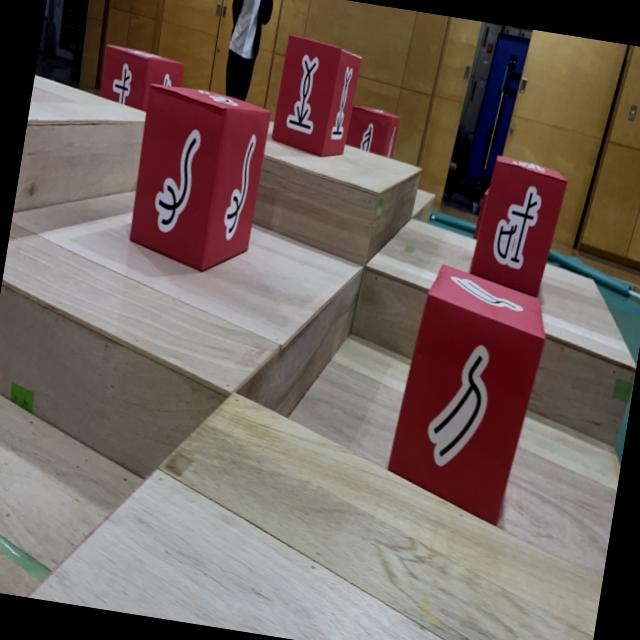10: (420, 336, 498, 475), (444, 274, 528, 314)
11: (359, 120, 375, 153)
13: (150, 124, 202, 239), (220, 130, 260, 242)
5: (491, 179, 545, 271)
7: (284, 52, 325, 136), (330, 65, 356, 142)
9: (108, 60, 135, 106)
fighter: (381, 260, 555, 530), (121, 80, 272, 280), (468, 153, 570, 301), (270, 34, 364, 160), (97, 44, 186, 116), (344, 104, 402, 160)
